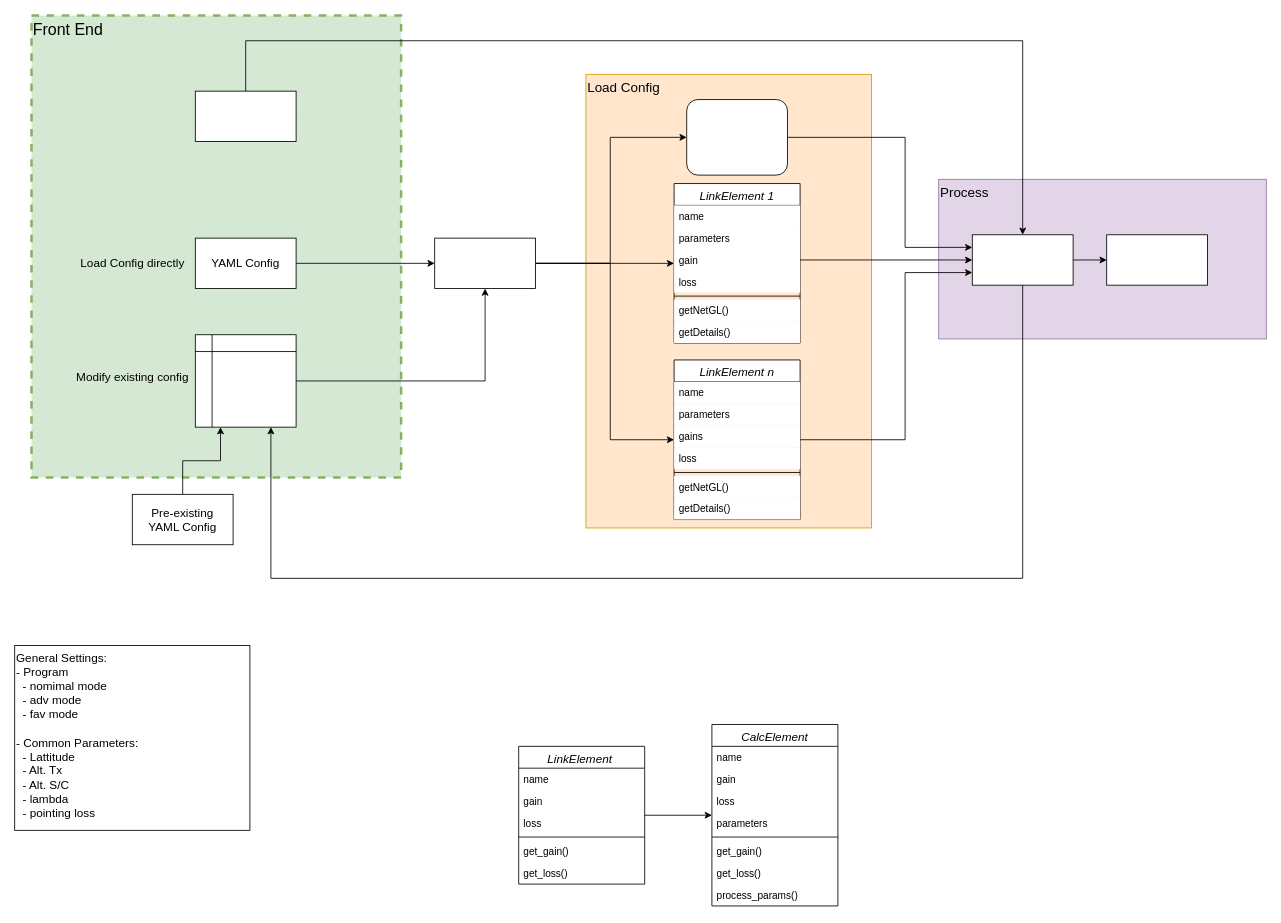
This 1281x923 diagram has some shape labels left out. Here are the shapes that lost their labels. From the top down, the centre of each, then its label:
At pixel 245 116: "Run Analysis Button".
At pixel 737 137: "General Settings".
At pixel 485 263: "Config Dictionary".
At pixel 1022 259: "Sum Gain/Loss of all elements".
At pixel 1157 259: "Save to YAML".
At pixel 245 380: "GUI Table".
